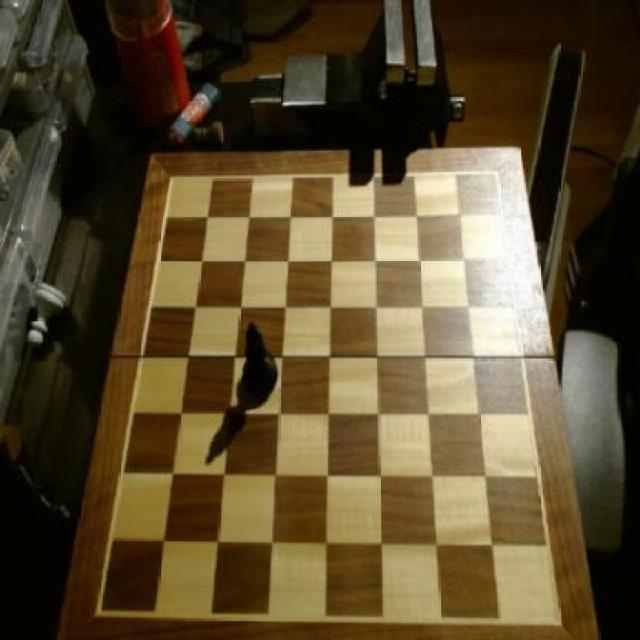bishop: (239, 318, 276, 402)
